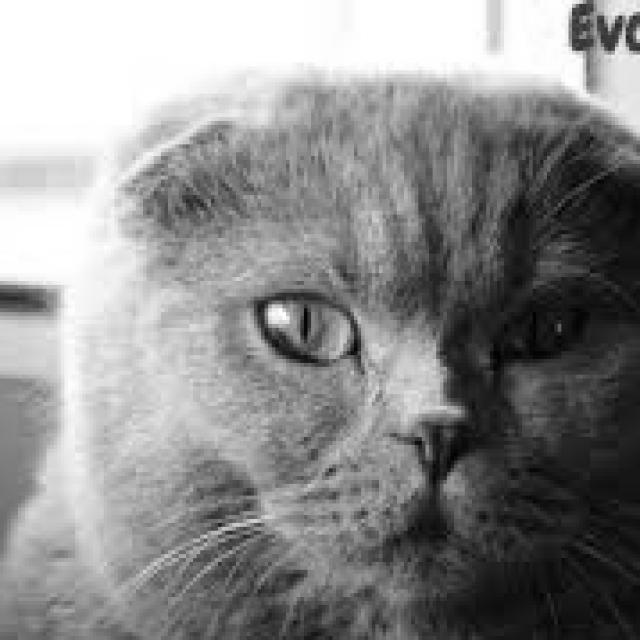scootish: (64, 43, 640, 620)
